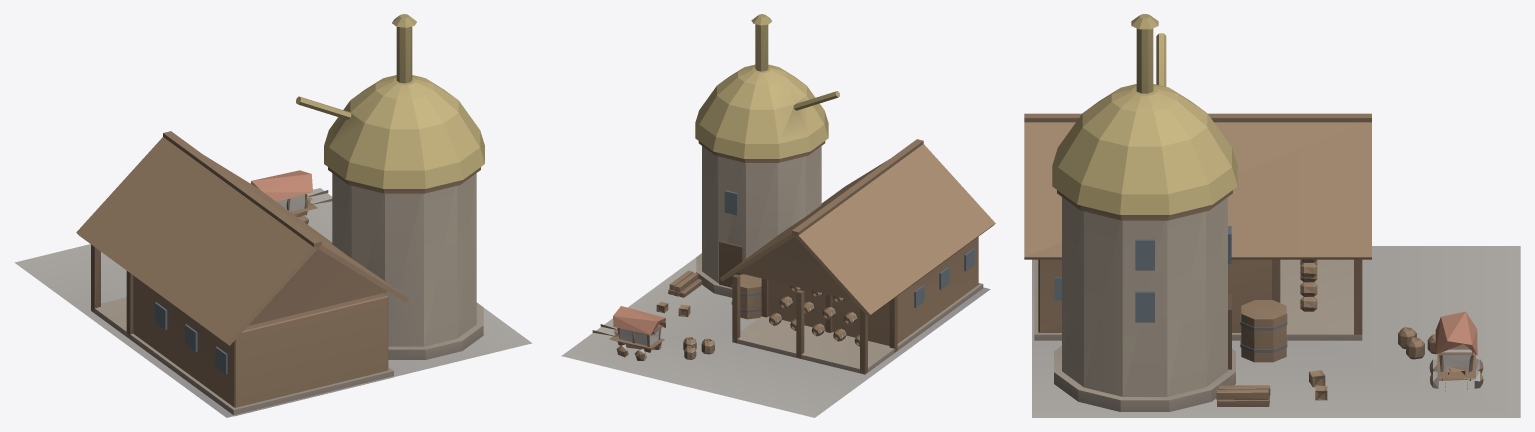
File: distillery.glb
3 renders of one model, left to right at view 1: azimuth 30°, elevation 25°; view 2: azimuth 150°, elevation 25°; view 3: azimuth 270°, elevation 25°, orthographic. The views are drawn at different scales.
Parts seen in each view (by area): view 1: distillery; view 2: distillery; view 3: distillery.
Part boxes in pixels (bbox=[...]): distillery: bbox=[14, 14, 531, 417]; distillery: bbox=[561, 14, 995, 417]; distillery: bbox=[1024, 14, 1520, 417].
Size of the model in its own units: 5 by 4.83 by 6.05.
